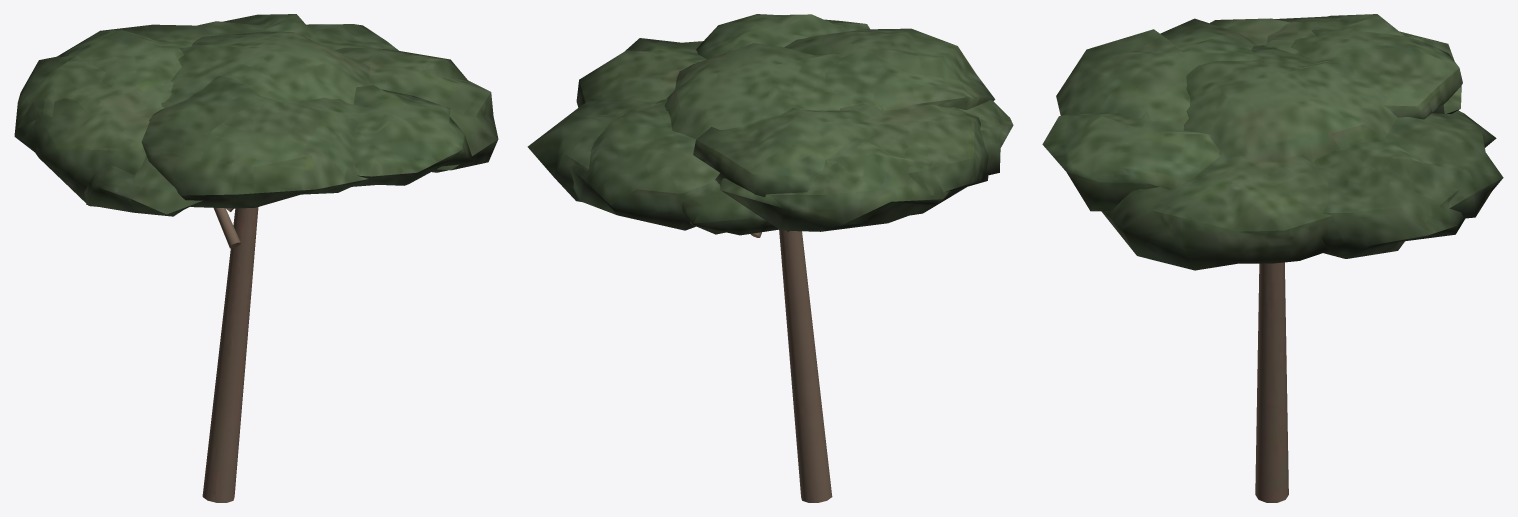
The model's file is a36_pine_a.glb.
3 renders of one model, left to right at view 1: azimuth 30°, elevation 25°; view 2: azimuth 150°, elevation 25°; view 3: azimuth 270°, elevation 25°, orthographic. The views are drawn at different scales.
Visible parts, largest first — view 1: body; view 2: body; view 3: body.
Boxes of the visible parts, box(x1,y1,x2,y2) form: body: box(14, 14, 498, 502); body: box(527, 14, 1013, 502); body: box(1042, 14, 1503, 502).
Size of the model in its own units: 1 by 1.01 by 0.9535.
Materials: 1 (1 with a texture image).
